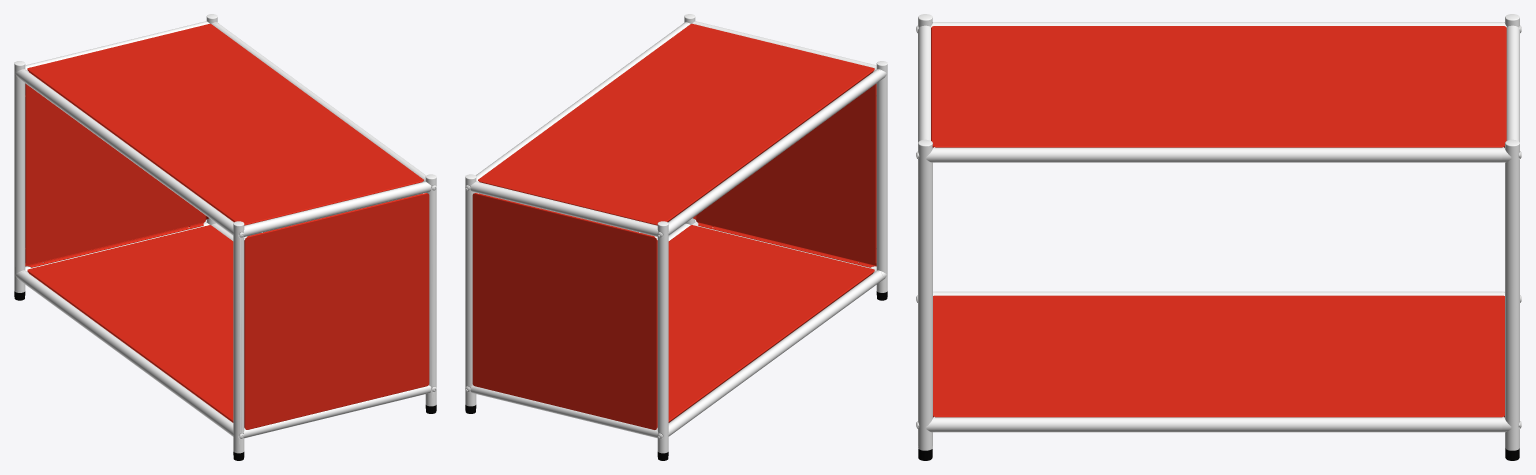
File: 80x40x40-1-8-red_optimized_optimized.glb
3 renders of one model, left to right at view 1: azimuth 30°, elevation 25°; view 2: azimuth 150°, elevation 25°; view 3: azimuth 270°, elevation 25°, orthographic. The views are drawn at different scales.
Visible parts, largest first — view 1: 直角鐵板-80x40-5 - 零件, new-上塞-1 - 零件; view 2: 直角鐵板-80x40-5 - 零件, new-上塞-1 - 零件; view 3: 直角鐵板-80x40-5 - 零件, new-上塞-1 - 零件.
Boxes of the visible parts, left/top/right/bottom form: 直角鐵板-80x40-5 - 零件: left=25, top=23, right=429, bottom=429; new-上塞-1 - 零件: left=14, top=14, right=436, bottom=453; 直角鐵板-80x40-5 - 零件: left=472, top=23, right=876, bottom=429; new-上塞-1 - 零件: left=465, top=14, right=887, bottom=453; 直角鐵板-80x40-5 - 零件: left=931, top=26, right=1506, bottom=417; new-上塞-1 - 零件: left=916, top=14, right=1521, bottom=450.
Bounding box in the file's own units: 0.3992 × 0.4453 × 0.7732.
